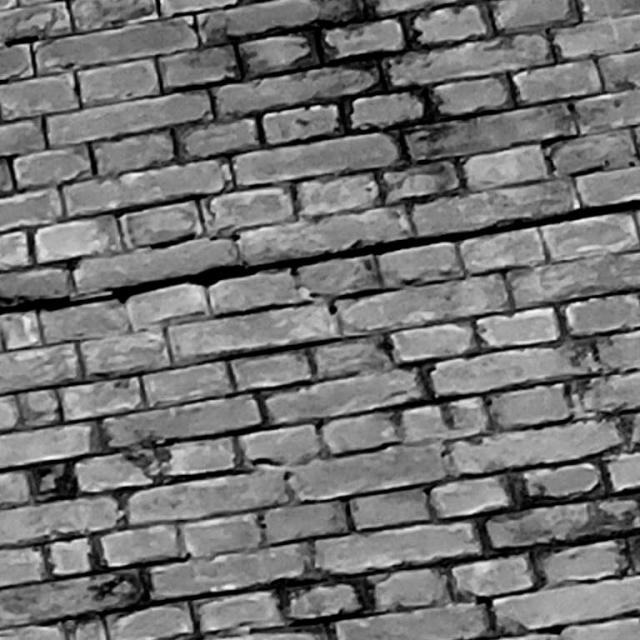crack: (1, 200, 640, 316)
